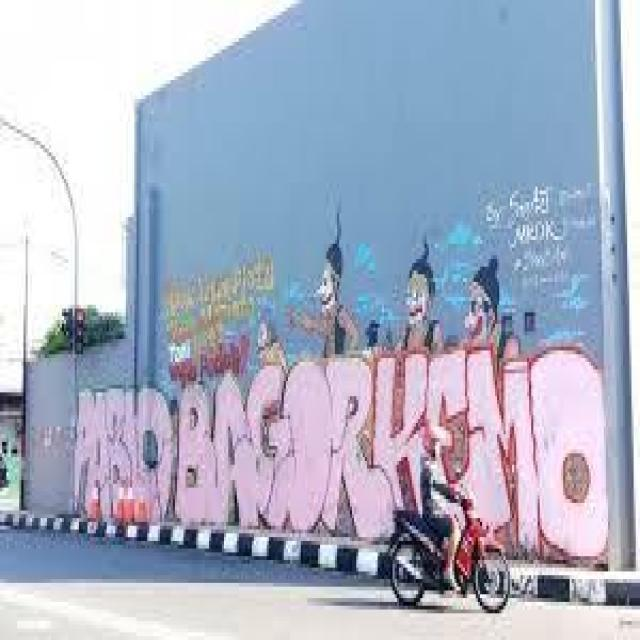nonspitting: (71, 346, 608, 564), (166, 248, 275, 380), (486, 187, 564, 246)
spitting: (296, 210, 362, 348), (462, 259, 520, 354), (396, 240, 444, 349), (254, 304, 287, 364)
